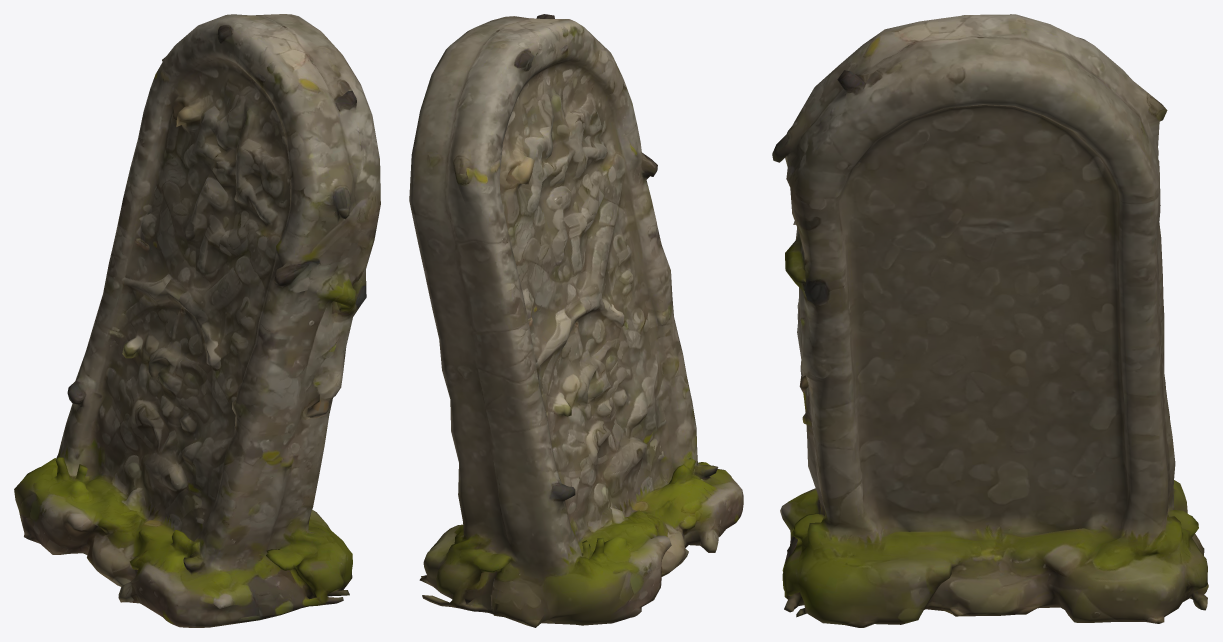
File: milestone_tripo.glb
The picture shows the model from 3 angles, left to right: view 1: azimuth 30°, elevation 25°; view 2: azimuth 150°, elevation 25°; view 3: azimuth 270°, elevation 25°; orthographic projection. The views are drawn at different scales.
Parts seen in each view (by area): view 1: stone milestone 3d model; view 2: stone milestone 3d model; view 3: stone milestone 3d model.
Part boxes in pixels (<box>): stone milestone 3d model: <box>14,14,380,627</box>; stone milestone 3d model: <box>409,14,743,627</box>; stone milestone 3d model: <box>772,14,1208,627</box>.
Size of the model in its own units: 0.4754 by 0.9725 by 0.6474.
1 material, 1 textured.
